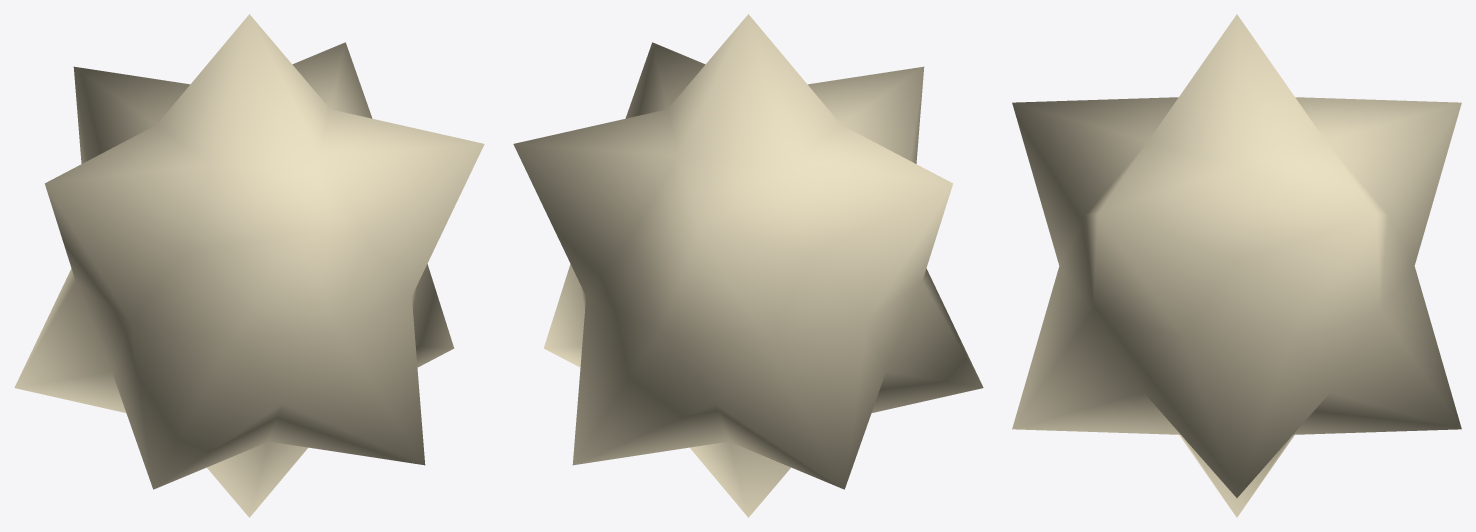
Rendered from star.glb.
3 views of the same model, side by side, from view 1: azimuth 30°, elevation 25°; view 2: azimuth 150°, elevation 25°; view 3: azimuth 270°, elevation 25° (orthographic).
Visible parts, largest first — view 1: Icosphere; view 2: Icosphere; view 3: Icosphere.
Boxes of the visible parts, left/top/right/bottom form: Icosphere: left=14, top=14, right=484, bottom=517; Icosphere: left=513, top=14, right=983, bottom=517; Icosphere: left=1012, top=14, right=1461, bottom=517.
Bounding box in the file's own units: 1.7 × 2 × 1.62.
